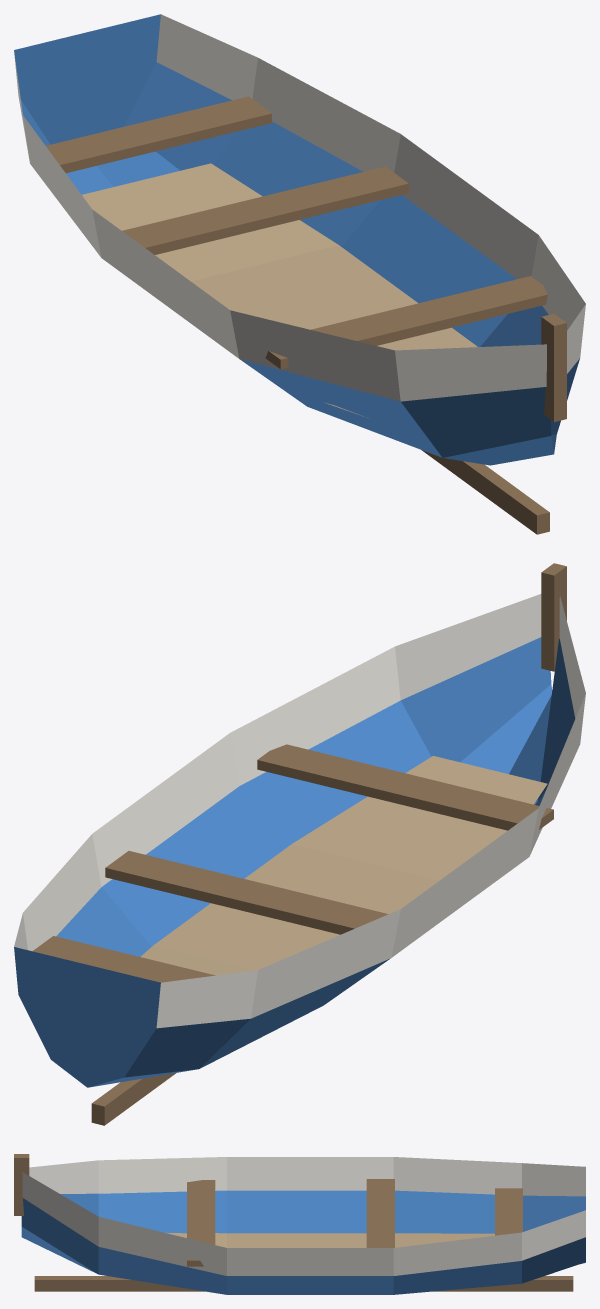
The model's file is boat_blue.glb.
3 renders of one model, top to bottom at view 1: azimuth 30°, elevation 25°; view 2: azimuth 150°, elevation 25°; view 3: azimuth 270°, elevation 25°, orthographic. The views are drawn at different scales.
Visible parts, largest first — view 1: SG_Boat_Blue; view 2: SG_Boat_Blue; view 3: SG_Boat_Blue.
Part boxes in pixels (x1=…): SG_Boat_Blue: x1=14, y1=14, x2=585, y2=534; SG_Boat_Blue: x1=14, y1=563, x2=585, y2=1125; SG_Boat_Blue: x1=14, y1=1154, x2=585, y2=1294.
Bounding box in the file's own units: 1.68 × 1.15 × 4.46.
